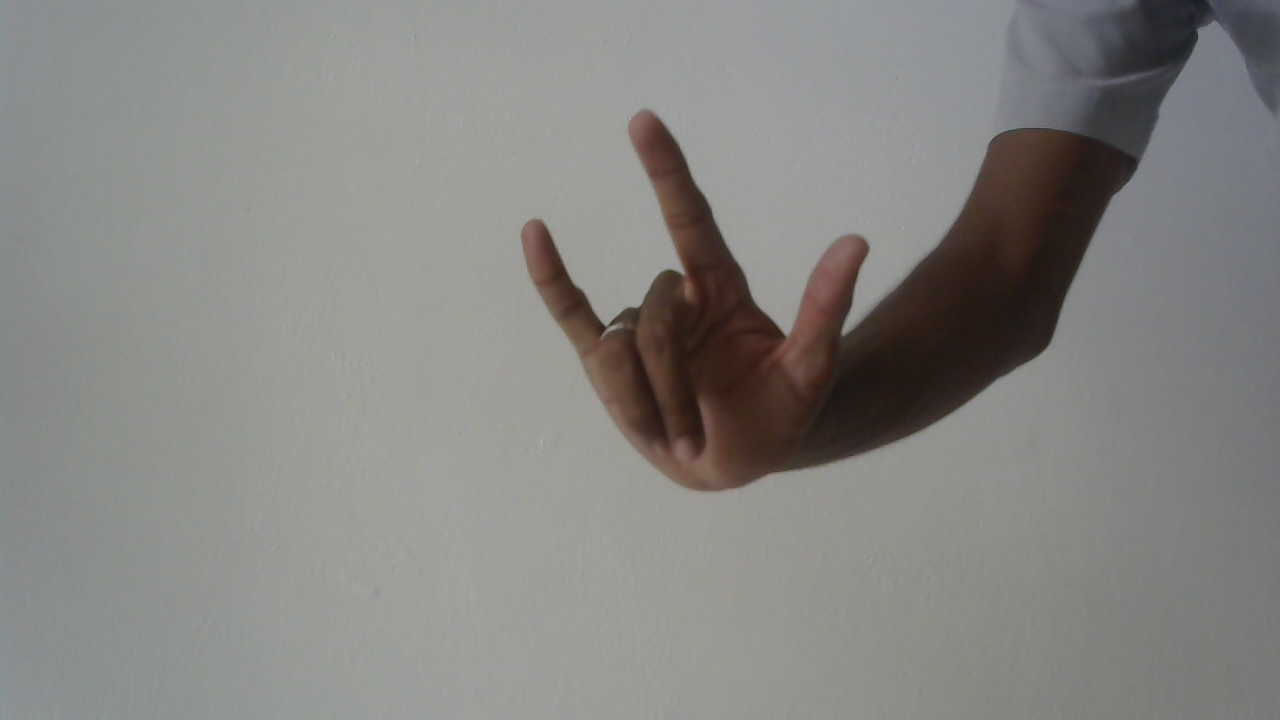iloveyou: (510, 103, 882, 502)
